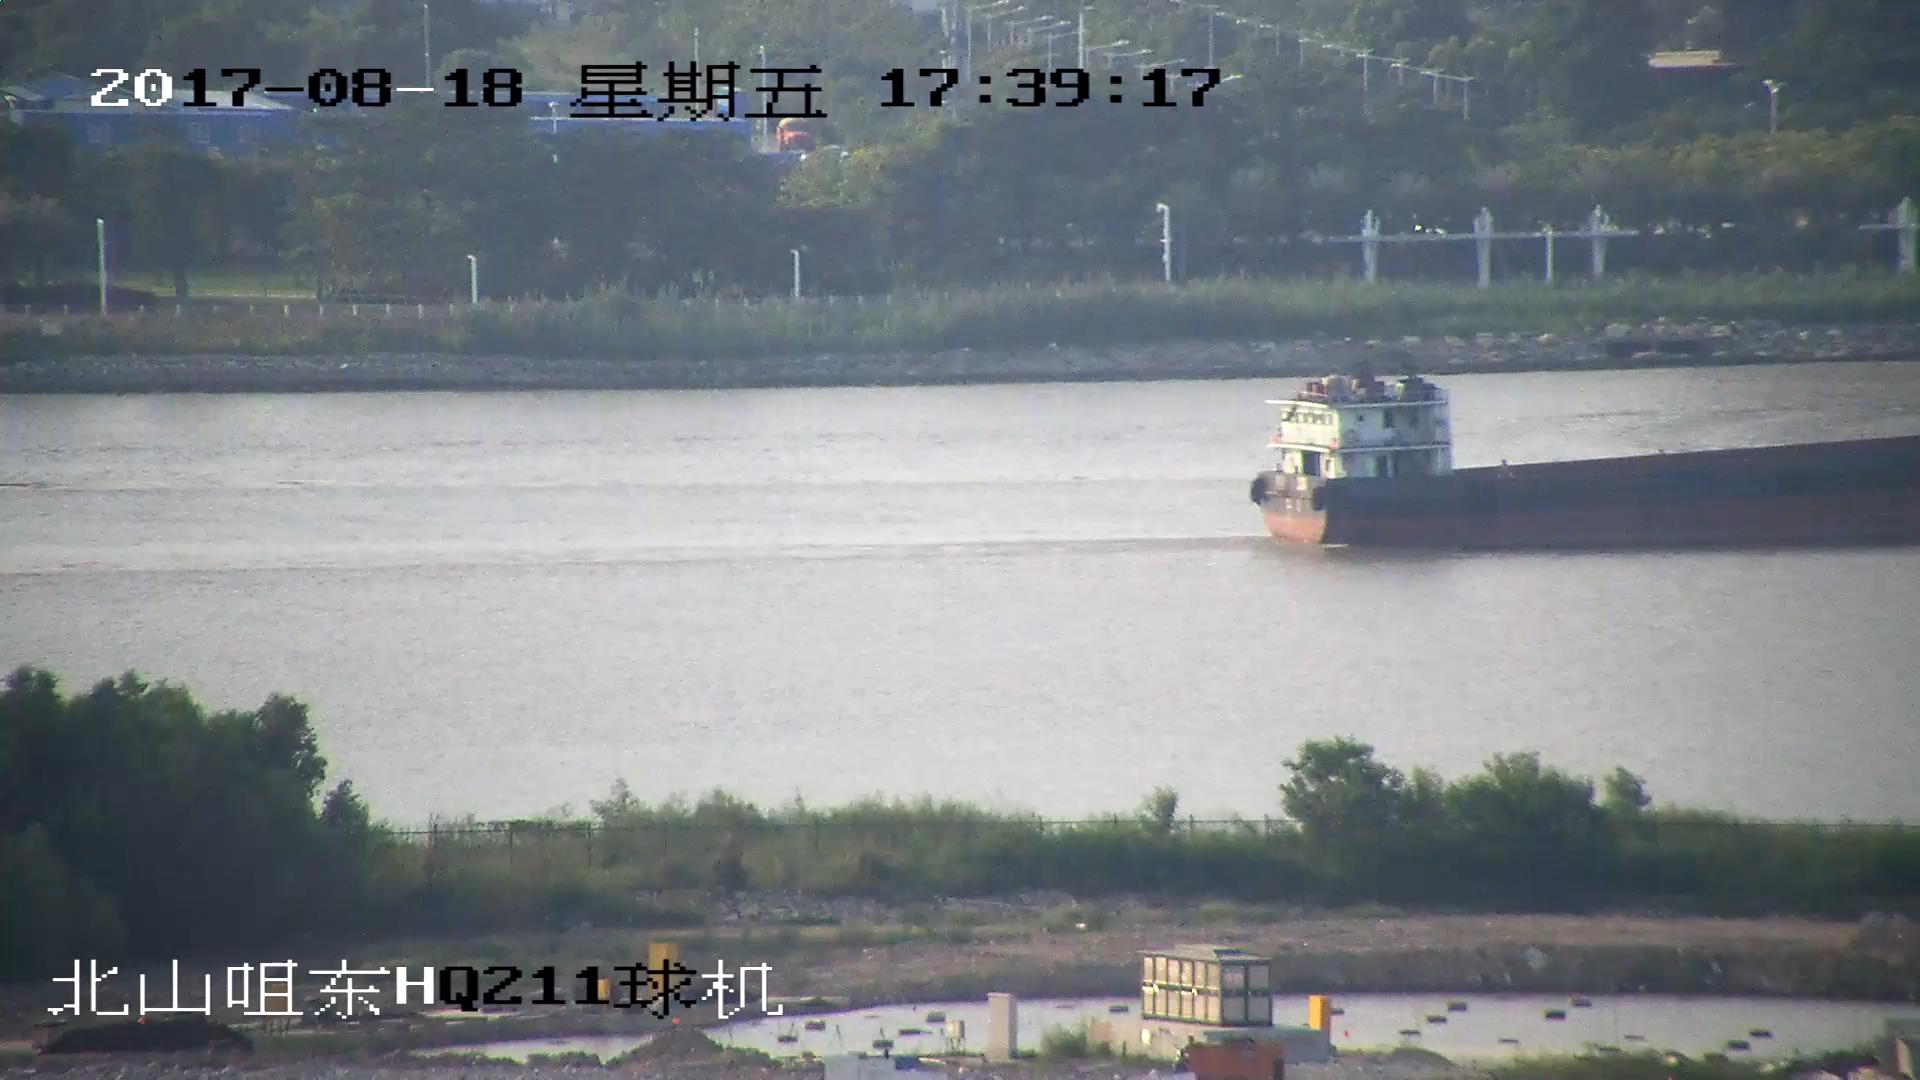general cargo ship: (1245, 377, 1920, 547)
